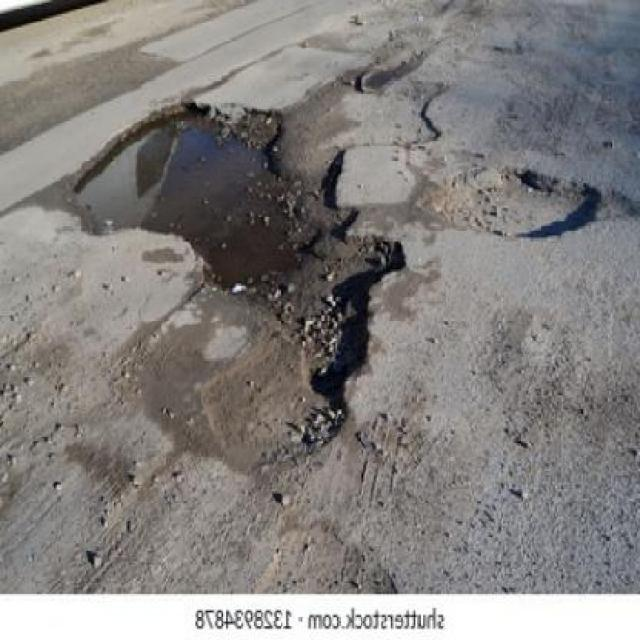Pothole: (65, 70, 451, 476), (418, 165, 640, 238)
